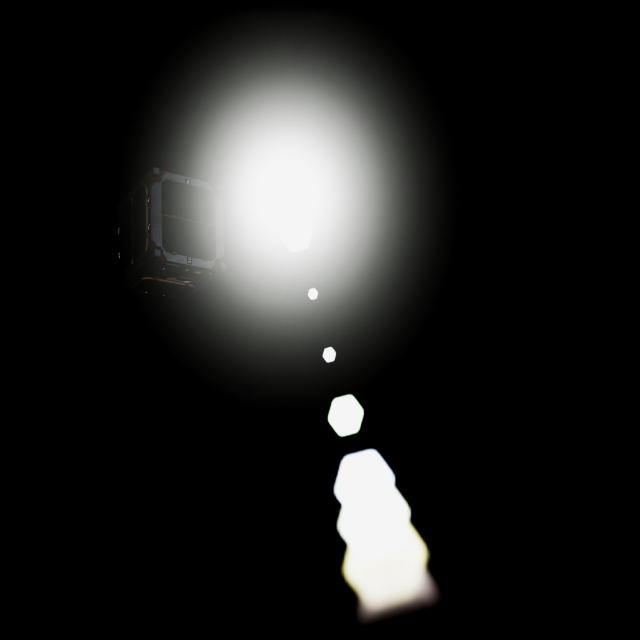satellite: (112, 167, 226, 293)
